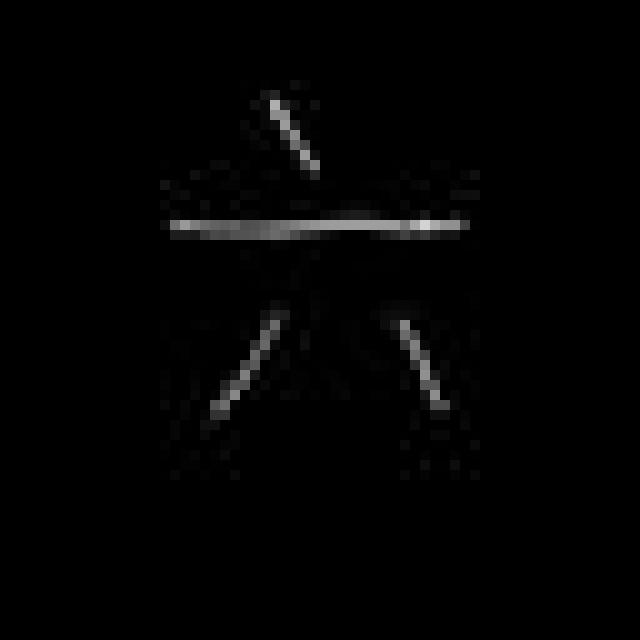6 -six-: (147, 86, 486, 442)
